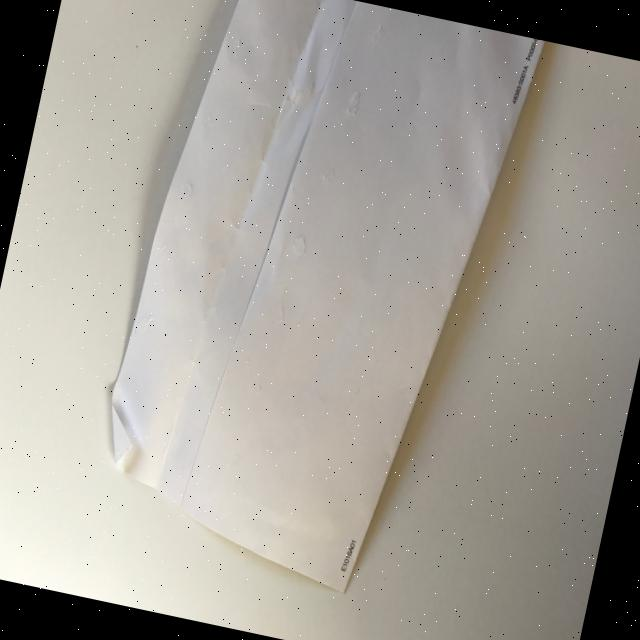paper: (80, 0, 545, 610)
